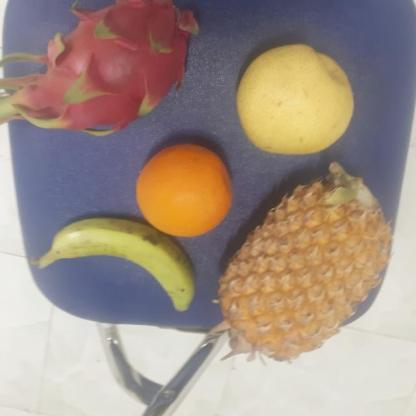banana: (37, 217, 208, 313)
orange: (132, 142, 238, 237)
pear: (233, 41, 360, 158)
pineapple: (221, 166, 391, 356)
pitaya: (21, 0, 208, 132)
